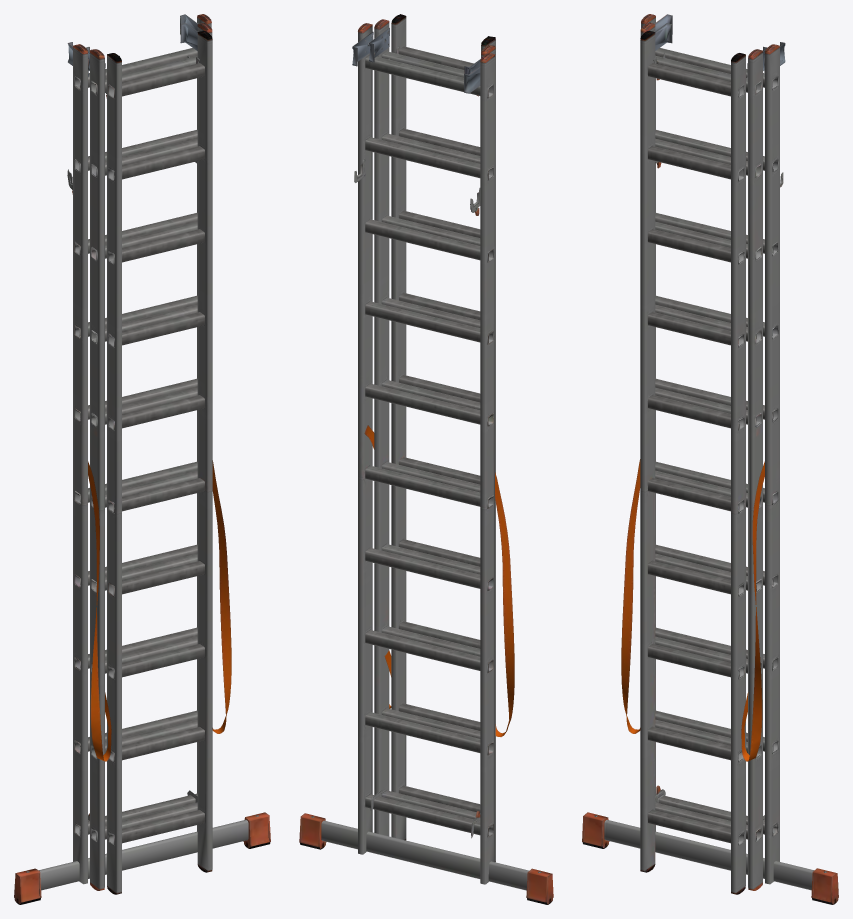
File: ladder_sectioned_01.glb
3 views of the same model, side by side, from view 1: azimuth 30°, elevation 25°; view 2: azimuth 150°, elevation 25°; view 3: azimuth 330°, elevation 25° (orthographic).
Parts seen in each view (by area): view 1: ladder_section_03, ladder_section_01, ladder_section_02, ladder_ribbon; view 2: ladder_section_01, ladder_section_02, ladder_section_03, ladder_ribbon; view 3: ladder_section_03, ladder_section_01, ladder_section_02, ladder_ribbon.
Part boxes in pixels (left/top/right/bottom): ladder_section_03: left=105, top=31, right=212, bottom=894; ladder_section_01: left=14, top=14, right=270, bottom=904; ladder_section_02: left=86, top=23, right=212, bottom=890; ladder_ribbon: left=88, top=460, right=231, bottom=761; ladder_section_01: left=299, top=23, right=553, bottom=904; ladder_section_02: left=369, top=19, right=495, bottom=862; ladder_section_03: left=388, top=14, right=495, bottom=861; ladder_ribbon: left=364, top=425, right=514, bottom=736; ladder_section_03: left=640, top=30, right=747, bottom=894; ladder_section_01: left=582, top=14, right=838, bottom=904; ladder_section_02: left=640, top=22, right=766, bottom=890; ladder_ribbon: left=621, top=459, right=764, bottom=761.
Bounding box in the file's own units: 0.6615 × 2.13 × 0.1776.
Materials: 1 (1 with a texture image).
